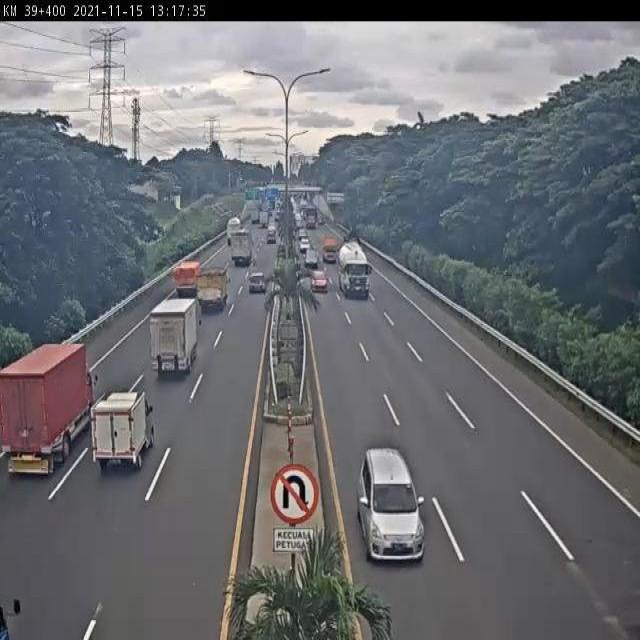car: (357, 447, 427, 562), (309, 268, 329, 296), (247, 271, 268, 297)
truck-l-: (336, 238, 373, 298)
truck-m-: (0, 340, 97, 480), (151, 294, 202, 378), (195, 268, 227, 315), (174, 259, 202, 300)
truck-s-: (89, 389, 156, 471)
